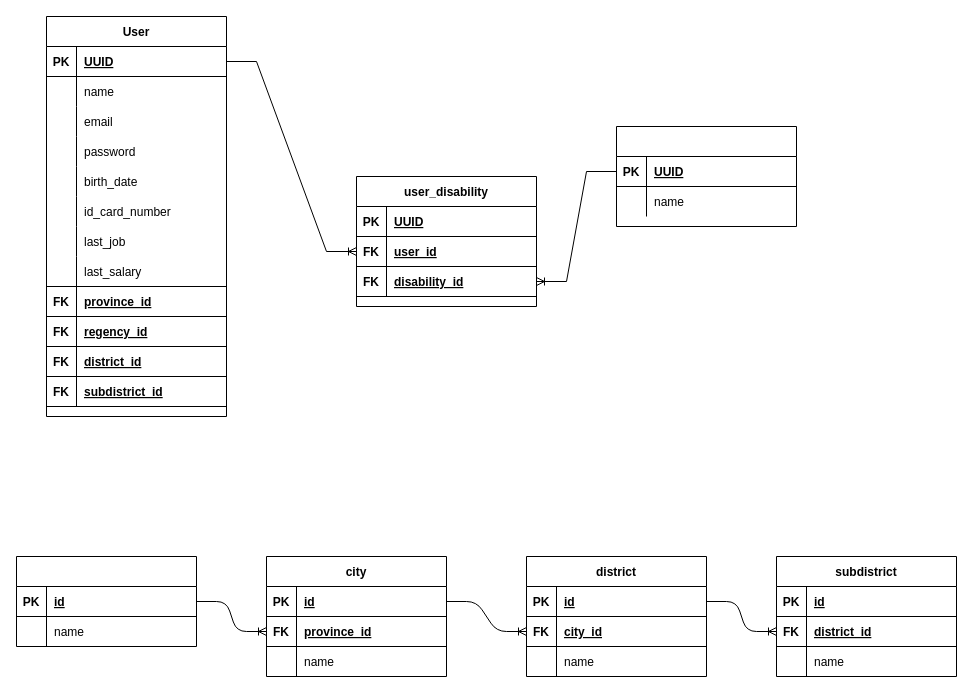
Some shapes in this 973 by 693 pixel diagram are drawn without their labels. The shapes that lost their labels are listed below. From the top down, each one's box as (x1, y1, x2, y2) in pixels, then its label:
(616, 126, 796, 226): Disability
(16, 556, 196, 646): province
